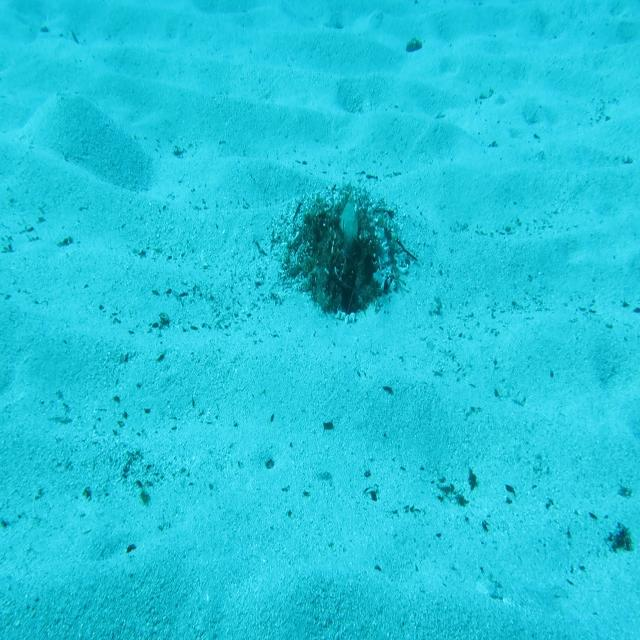INS: (337, 195, 360, 245)
nest: (286, 176, 422, 322)
